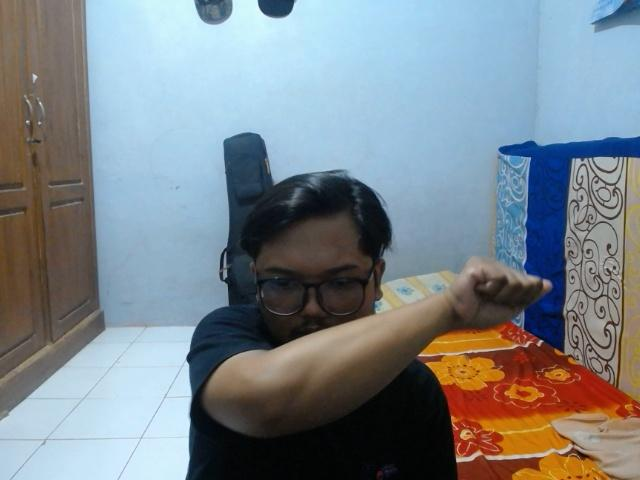Grab: (441, 251, 553, 333)
